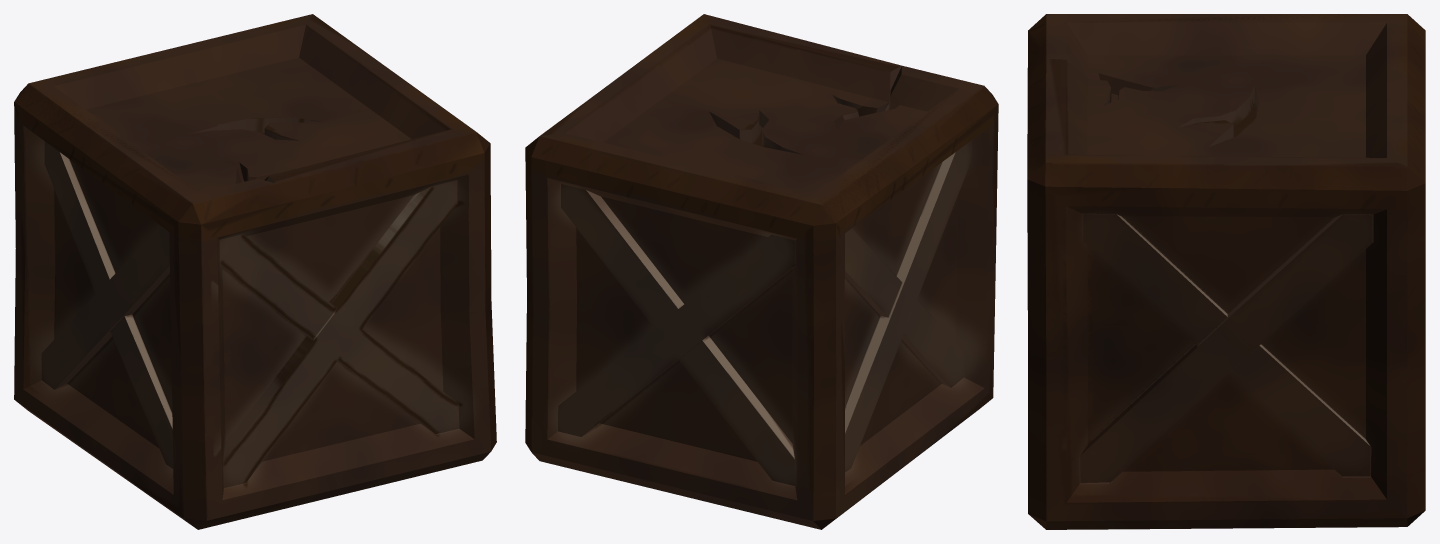
File: Crate.fbx
The picture shows the model from 3 angles, left to right: view 1: azimuth 30°, elevation 25°; view 2: azimuth 150°, elevation 25°; view 3: azimuth 270°, elevation 25°; orthographic projection. The views are drawn at different scales.
Visible parts, largest first — view 1: Cube; view 2: Cube; view 3: Cube.
Part boxes in pixels (x1,y1,x2,y2): Cube: (14,14,496,529); Cube: (525,14,998,529); Cube: (1027,14,1425,529).
Size of the model in its own units: 203 by 202 by 200.
Materials: 1 (1 with a texture image).
